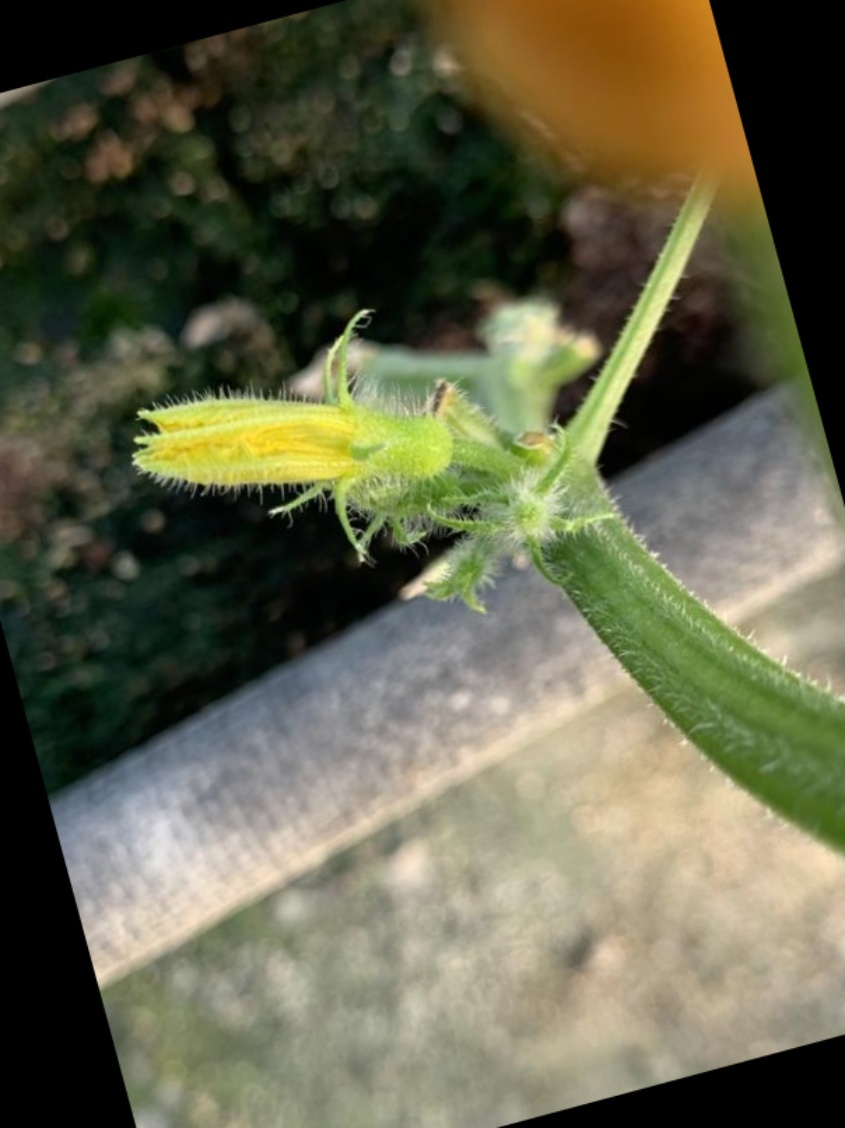bud: (120, 328, 474, 534)
